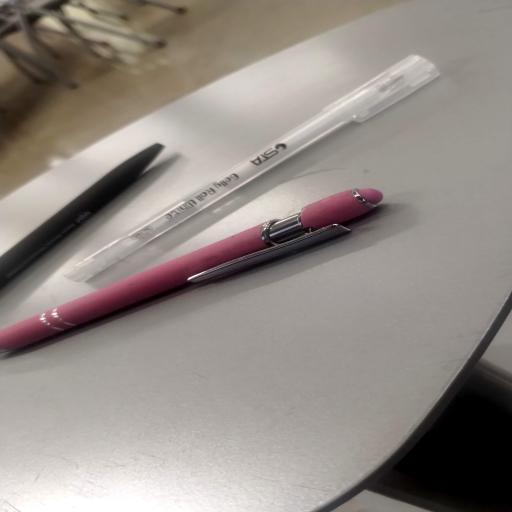pen: (65, 56, 439, 281), (0, 189, 382, 349), (0, 144, 163, 286)
